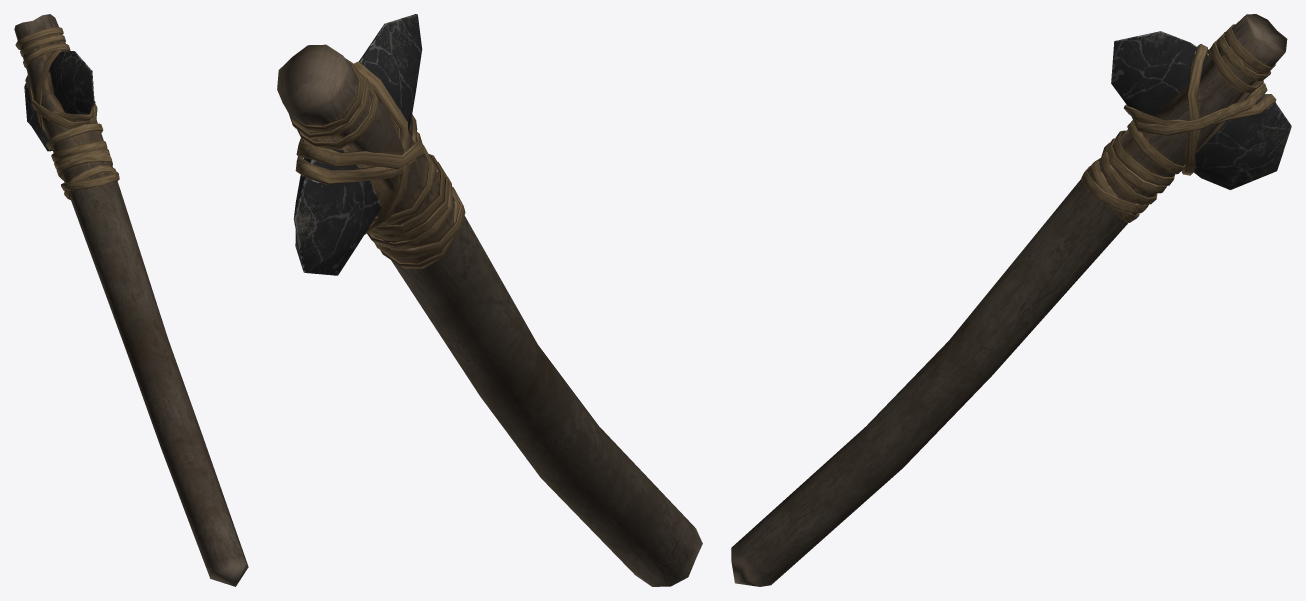
3 views of the same model, side by side, from view 1: azimuth 30°, elevation 25°; view 2: azimuth 150°, elevation 25°; view 3: azimuth 270°, elevation 25° (orthographic). The views are drawn at different scales.
Visible parts, largest first — view 1: StoneAge_Axe_msh; view 2: StoneAge_Axe_msh; view 3: StoneAge_Axe_msh.
Boxes of the visible parts, x1,y1,x2,y2 form: StoneAge_Axe_msh: [14, 14, 248, 586]; StoneAge_Axe_msh: [277, 14, 702, 586]; StoneAge_Axe_msh: [731, 14, 1291, 586].
Size of the model in its own units: 0.7376 by 5.59 by 4.99.
1 material, 1 textured.
